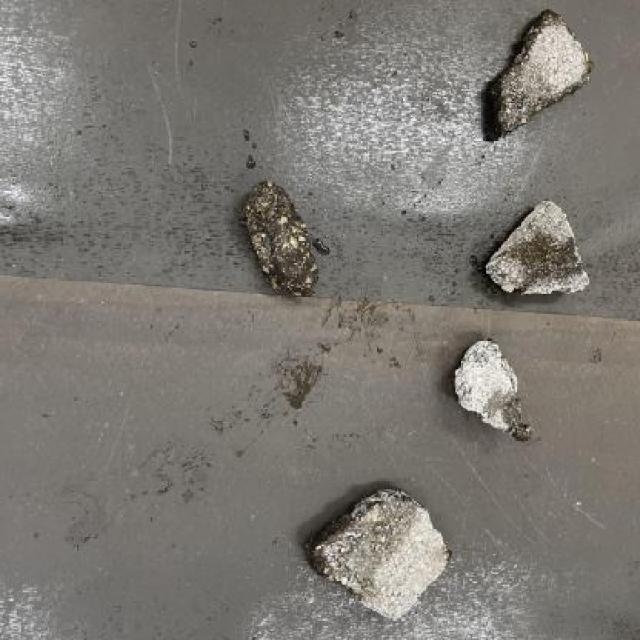Road Debris: (240, 180, 328, 294), (314, 480, 416, 574), (492, 58, 552, 136), (510, 230, 586, 290), (485, 392, 533, 443)
